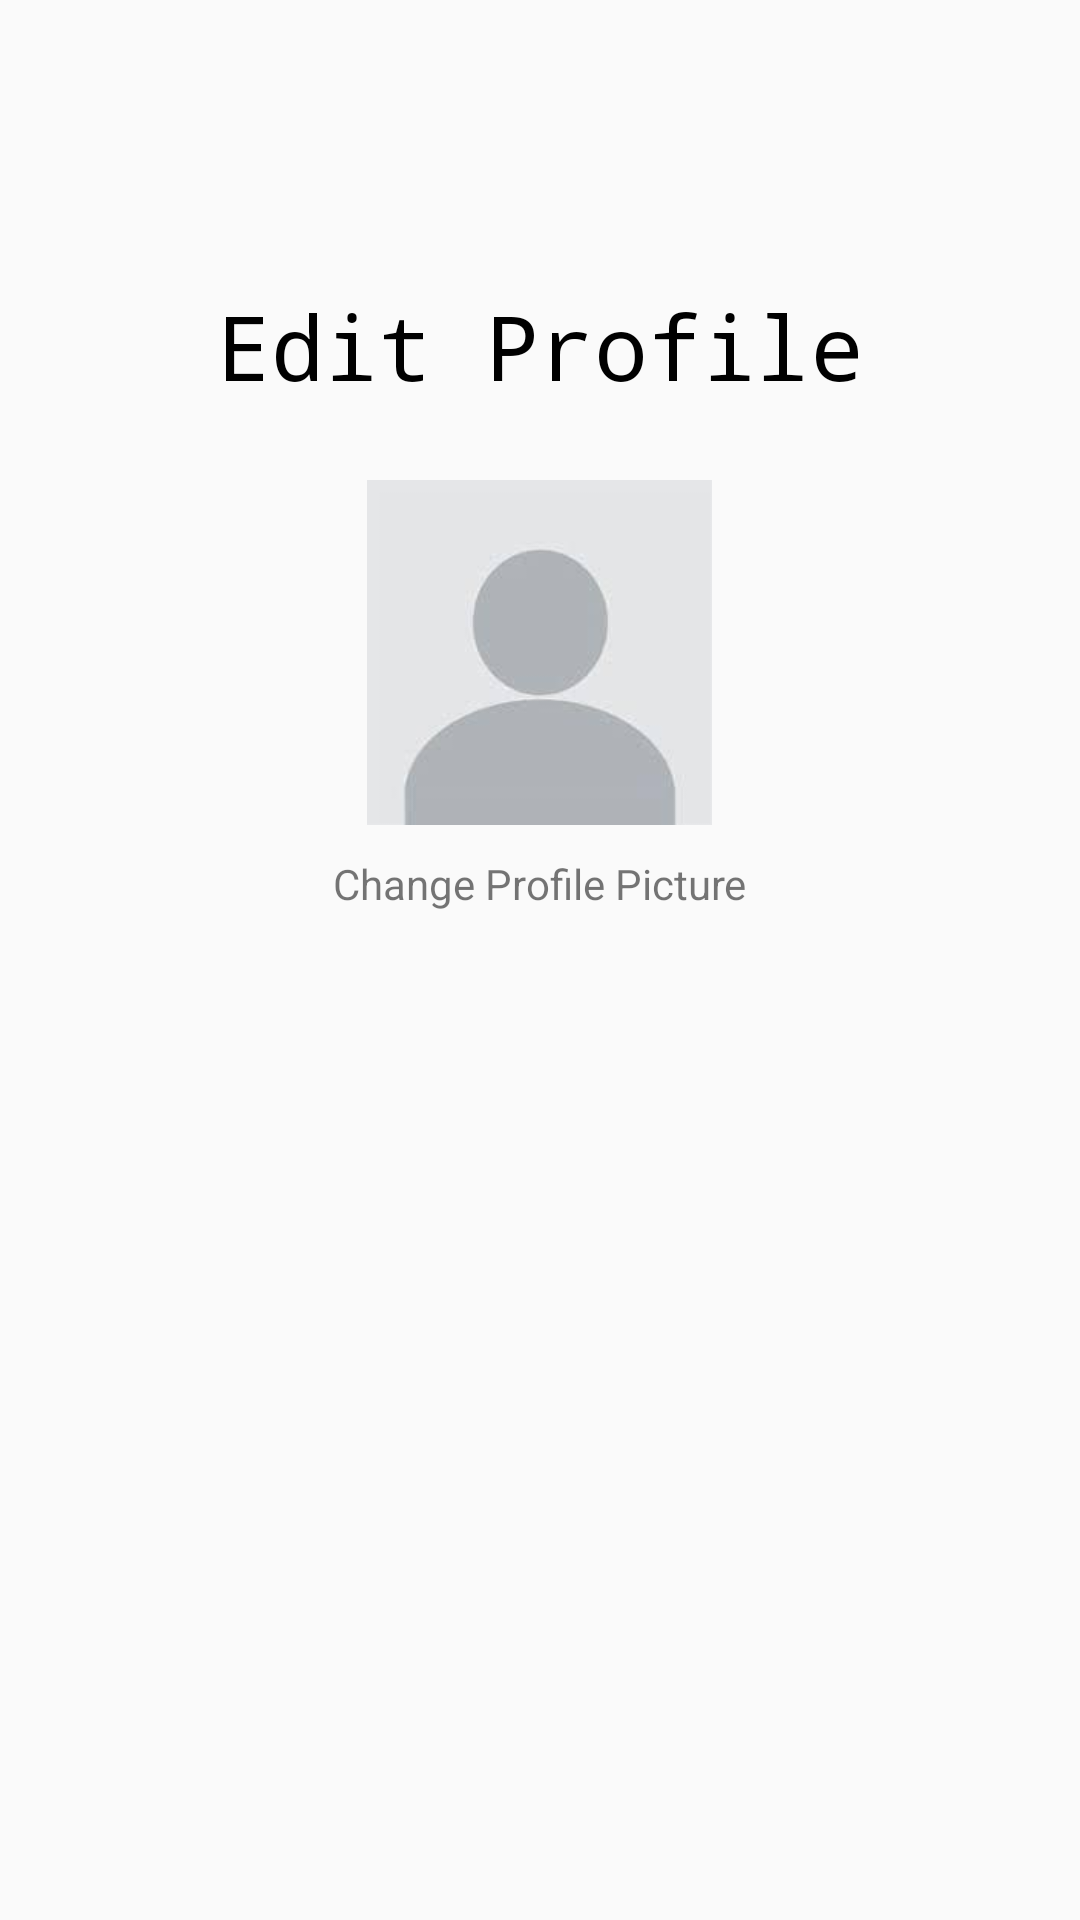

Icon click points for this 1080w x 1920h phone screenshot, format [x,y]:
user: [544,683]
